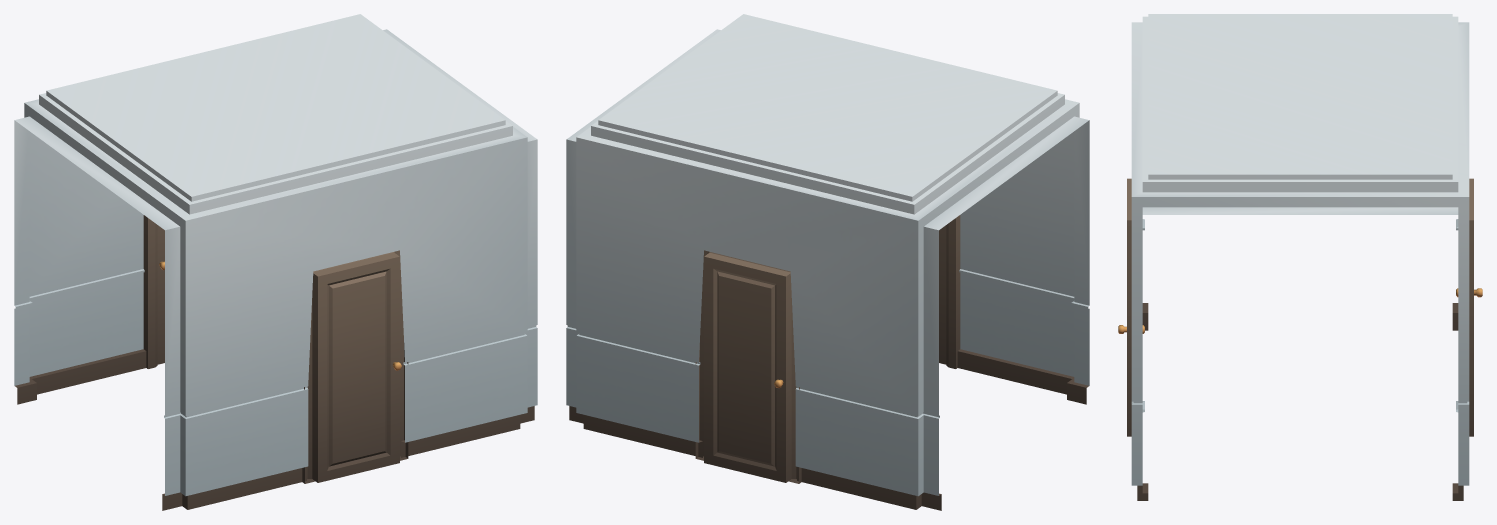
The model's file is 4m_doorshallway.fbx.
3 views of the same model, side by side, from view 1: azimuth 30°, elevation 25°; view 2: azimuth 150°, elevation 25°; view 3: azimuth 270°, elevation 25° (orthographic). The views are drawn at different scales.
Parts seen in each view (by area): view 1: 4m_doorshallway; view 2: 4m_doorshallway; view 3: 4m_doorshallway.
Part boxes in pixels (x1=…): 4m_doorshallway: x1=14, y1=14, x2=537, y2=510; 4m_doorshallway: x1=566, y1=14, x2=1089, y2=510; 4m_doorshallway: x1=1118, y1=14, x2=1482, y2=500.
Size of the model in its own units: 400 by 315 by 324.
